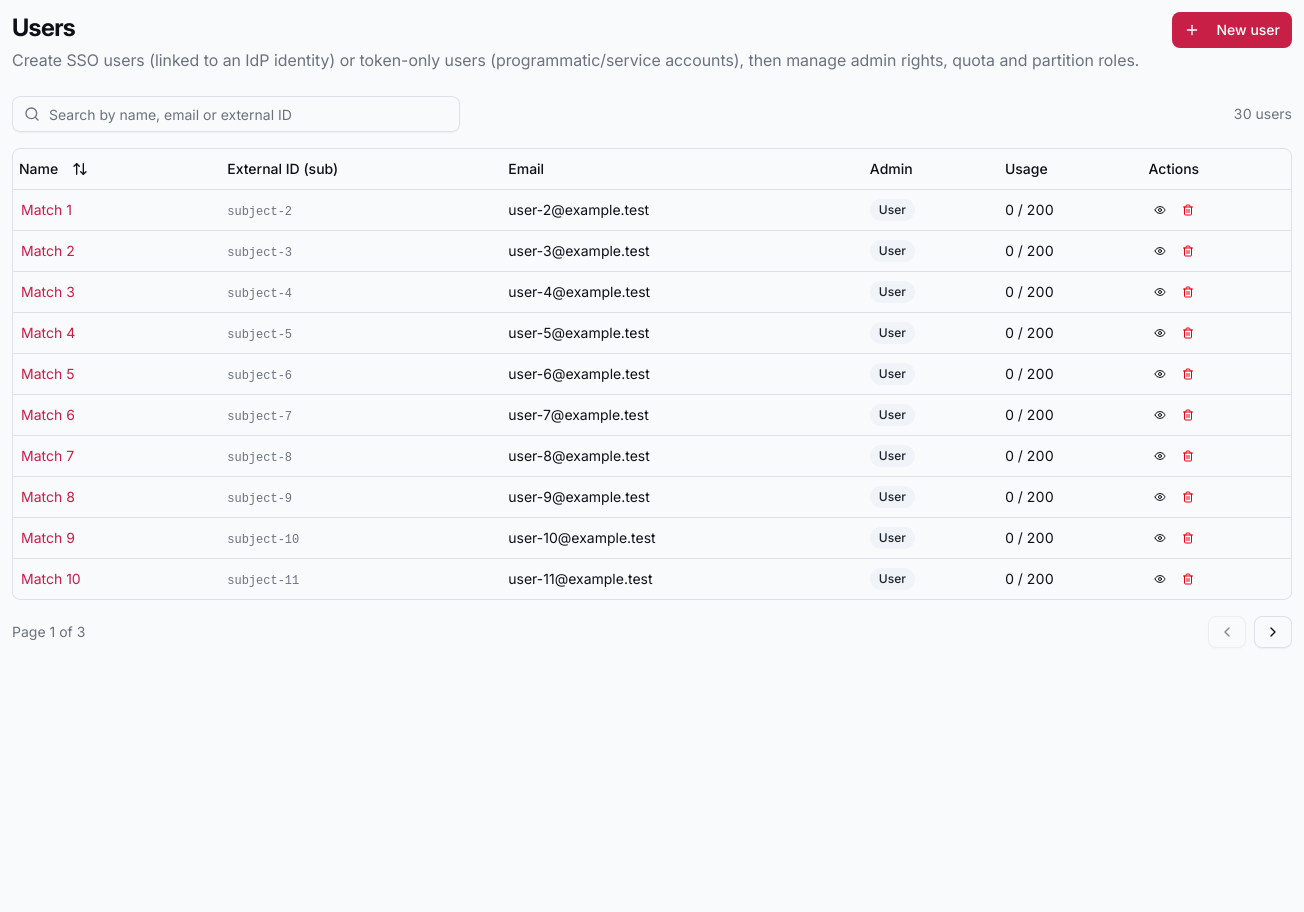
it: UserListPage › returns to the first page when search changes or is cleared
Expected: the text "Page 1 of 3" is shown, [12,622,85,642]
Click the button named "Next page".
click(1273, 632)  # box [1254,616,1292,648]
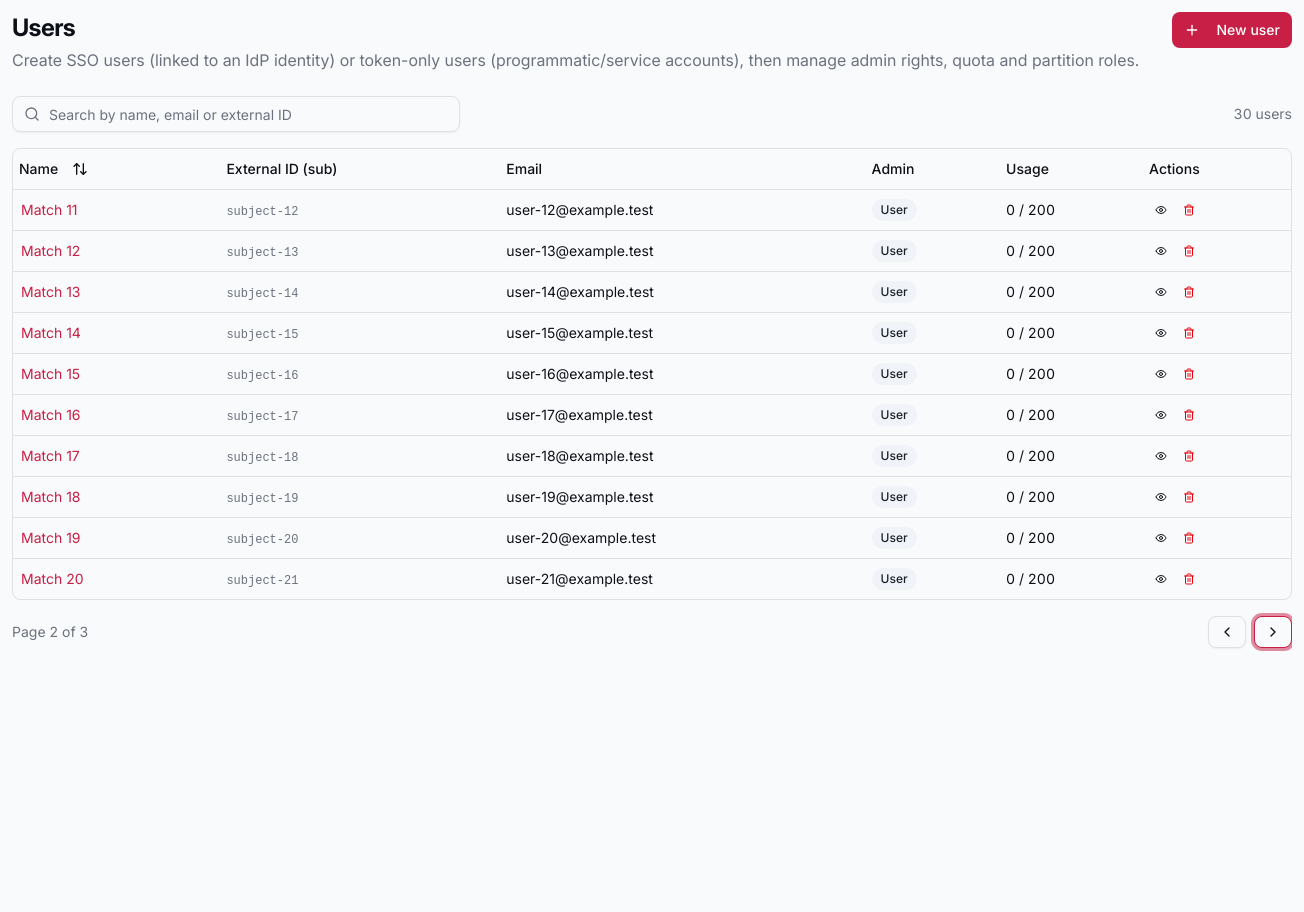
Click the button named "Next page".
click(1273, 632)  # box [1254,616,1292,648]
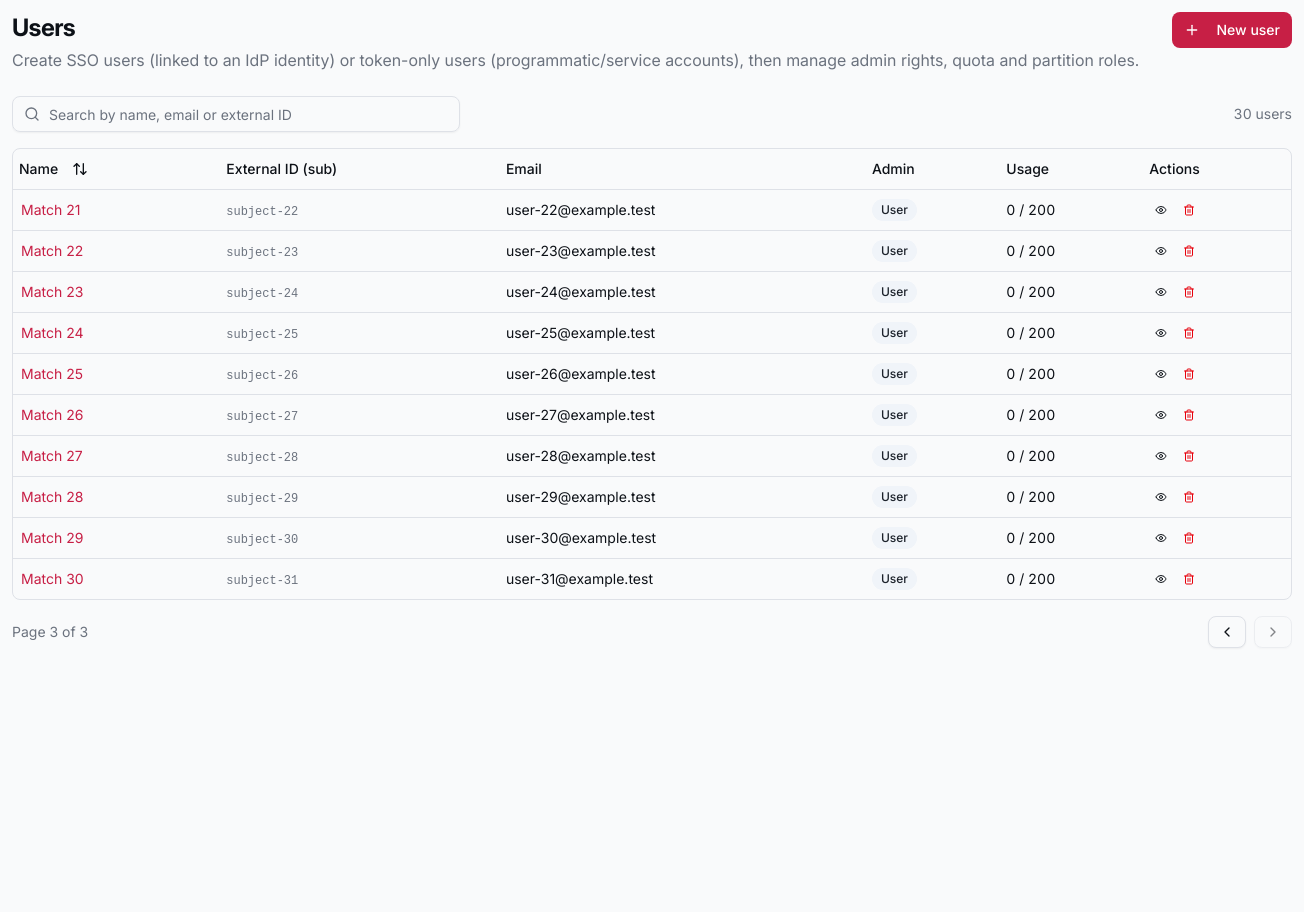
Expected: the text "Page 3 of 3" is shown, [12,622,88,642]
Type "match" into the search field named "Search users".
click(236, 114); type("match")  # box [12,96,460,132]
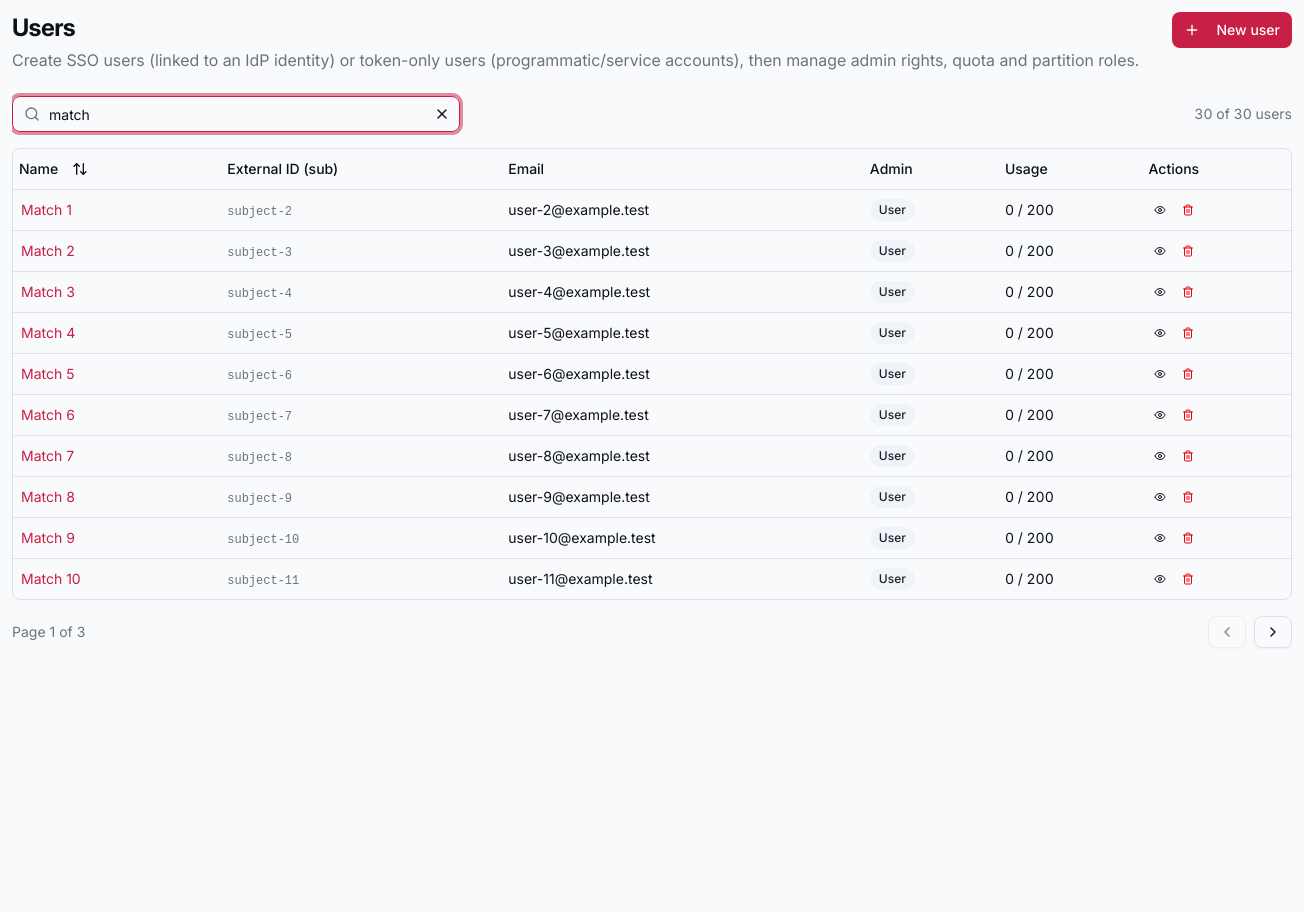
Expected: the text "Page 1 of 3" is shown, [12,622,85,642]
Expected: the link "Match 1" is shown, [21,200,72,218]
Click the button named "Next page".
click(1273, 632)  # box [1254,616,1292,648]
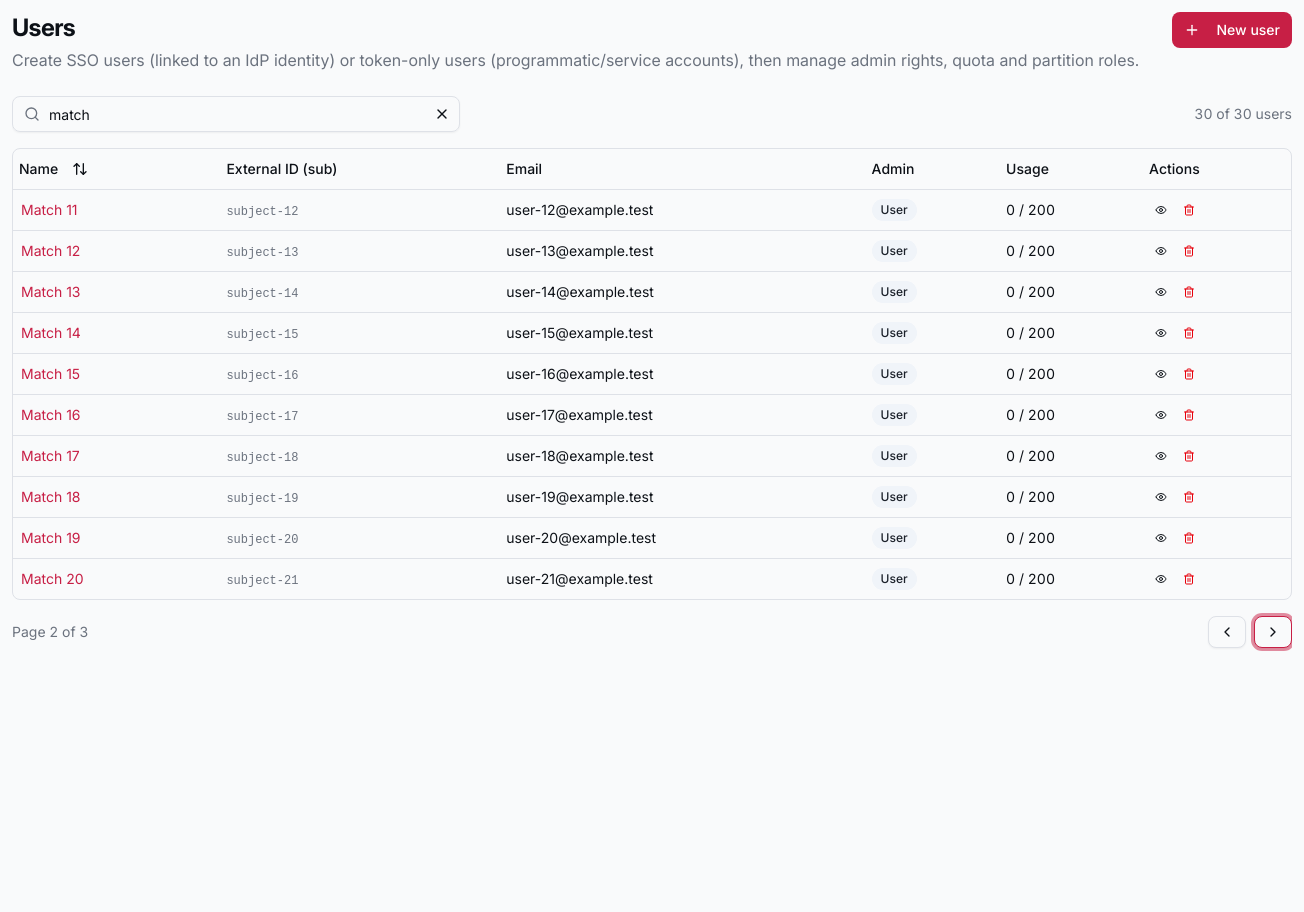
Expected: the text "Page 2 of 3" is shown, [12,622,88,642]
Click the button named "Clear user search".
click(442, 114)  # box [426,98,458,130]
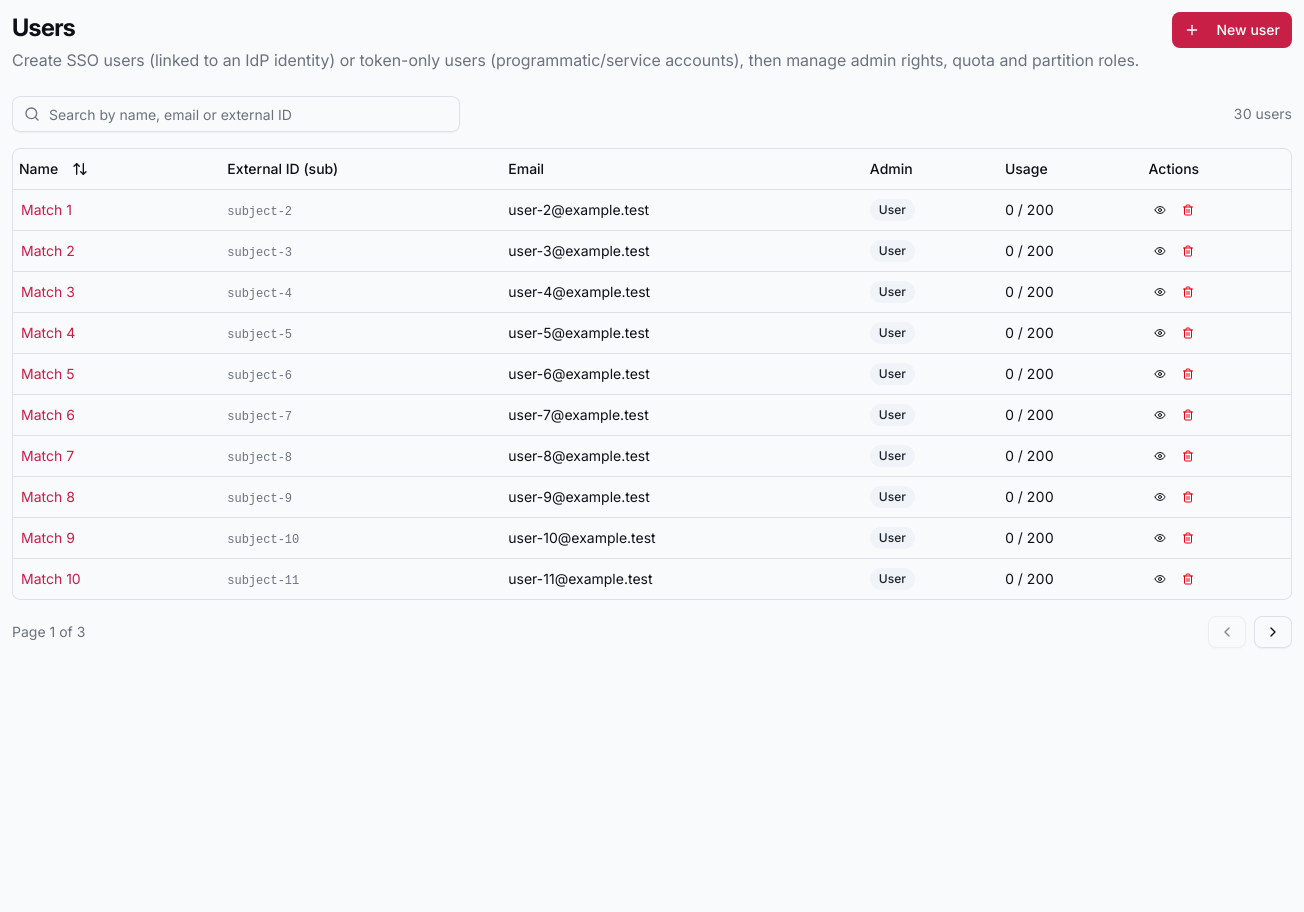
Expected: the link "Match 1" is shown, [21,200,72,218]
Expected: the text "Page 1 of 3" is shown, [12,622,85,642]
